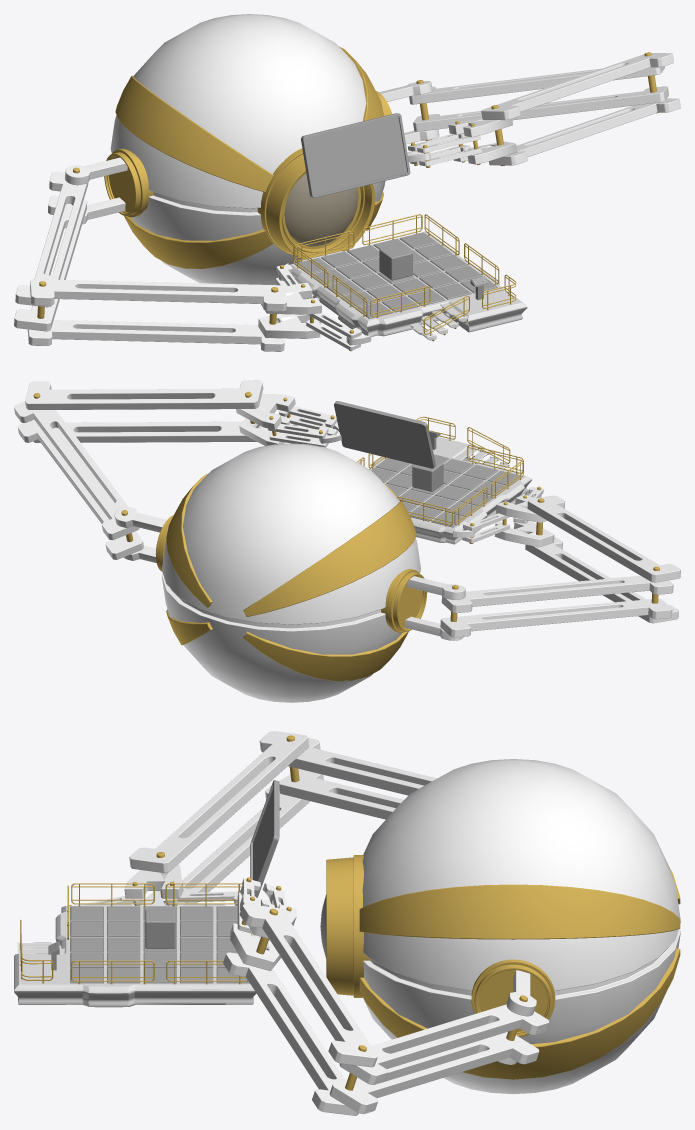
3 views of the same model, one above another, from view 1: azimuth 30°, elevation 25°; view 2: azimuth 150°, elevation 25°; view 3: azimuth 270°, elevation 25° (orthographic). The views are drawn at different scales.
Parts seen in each view (by area): view 1: pasted__球体_3, pasted__球体_2, pasted__camera, pasted__pCube43, pasted__pCube17, pasted__立方体_2_立方体_2, pasted__立方体_2_立方体_3, pasted__球体, pasted__立方体_2_立方体_2_2, pasted__立方体_2_立方体_2_3, pasted__立方体_2_立方体_3_2, pasted__立方体_2_立方体_1 (+12 smaller); view 2: pasted__球体_3, pasted__球体_2, pasted__立方体_2_立方体_2_2, pasted__pCube43, pasted__立方体_2_立方体, pasted__立方体_2_立方体_1, pasted__立方体_2_立方体_3_2, pasted__立方体_2_立方体_2, pasted__立方体_2_立方体_1_2, pasted__pCube17, pasted__立方体_2_立方体_2_3, pasted__立方体_2_立方体_3 (+11 smaller); view 3: pasted__球体_3, pasted__球体_2, pasted__pCube17, pasted__立方体_2_立方体_2, pasted__立方体_2_立方体_2_2, pasted__立方体_2_立方体_2_3, pasted__立方体_2_立方体_1_2, pasted__camera, pasted__立方体_2_立方体_3_2, pasted__立方体_2_立方体_1, pasted__立方体_2_立方体_3, pasted__connect_2 (+11 smaller).
Part boxes in pixels (box(x1,y1,x2,y2)): pasted__球体_3: box(110, 14, 385, 285); pasted__球体_2: box(115, 46, 383, 268); pasted__camera: box(257, 148, 375, 258); pasted__pCube43: box(301, 113, 410, 197); pasted__pCube17: box(290, 231, 527, 336); pasted__立方体_2_立方体_2: box(30, 279, 286, 311); pasted__立方体_2_立方体_3: box(27, 320, 284, 351); pasted__球体: box(284, 173, 358, 246); pasted__立方体_2_立方体_2_2: box(481, 53, 673, 120); pasted__立方体_2_立方体_2_3: box(413, 86, 668, 131); pasted__立方体_2_立方体_3_2: box(489, 98, 680, 165); pasted__立方体_2_立方体_1: box(15, 171, 88, 307); pasted__球体_3: box(162, 443, 420, 702); pasted__球体_2: box(166, 473, 416, 681); pasted__立方体_2_立方体_2_2: box(25, 380, 263, 409); pasted__pCube43: box(334, 401, 435, 468); pasted__立方体_2_立方体: box(440, 598, 672, 637); pasted__立方体_2_立方体_1: box(441, 575, 673, 613); pasted__立方体_2_立方体_3_2: box(33, 421, 256, 442); pasted__立方体_2_立方体_2: box(527, 495, 680, 582); pasted__立方体_2_立方体_1_2: box(14, 401, 139, 540); pasted__pCube17: box(369, 437, 531, 544); pasted__立方体_2_立方体_2_3: box(18, 419, 143, 559); pasted__立方体_2_立方体_3: box(525, 536, 678, 623); pasted__球体_3: box(362, 759, 680, 1094); pasted__球体_2: box(359, 865, 680, 1079); pasted__pCube17: box(14, 904, 260, 1007); pasted__立方体_2_立方体_2: box(129, 731, 308, 872); pasted__立方体_2_立方体_2_2: box(239, 904, 377, 1067); pasted__立方体_2_立方体_2_3: box(329, 1032, 539, 1114); pasted__立方体_2_立方体_1_2: box(339, 1004, 549, 1084); pasted__camera: box(326, 855, 370, 997); pasted__立方体_2_立方体_3_2: box(223, 952, 358, 1115); pasted__立方体_2_立方体_1: box(288, 737, 436, 795); pasted__立方体_2_立方体_3: box(182, 785, 309, 903); pasted__connect_2: box(471, 959, 555, 1036).
Size of the model in its own units: 65.36 by 23.38 by 46.35.
